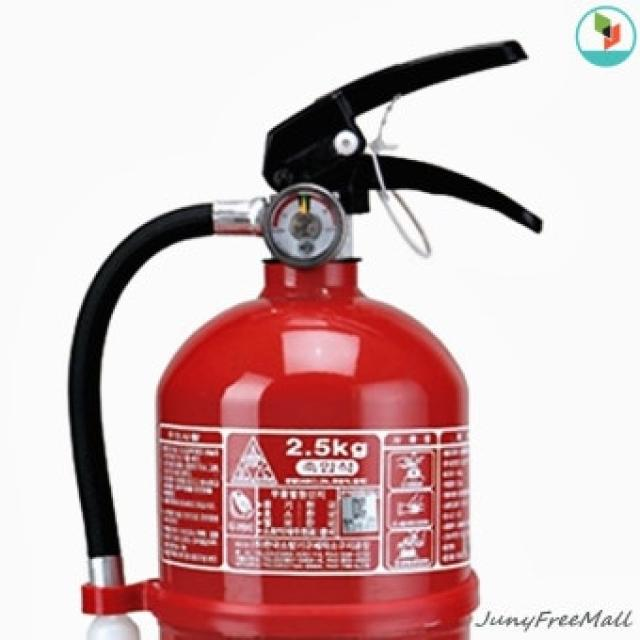pressure gauge: (262, 185, 346, 267)
